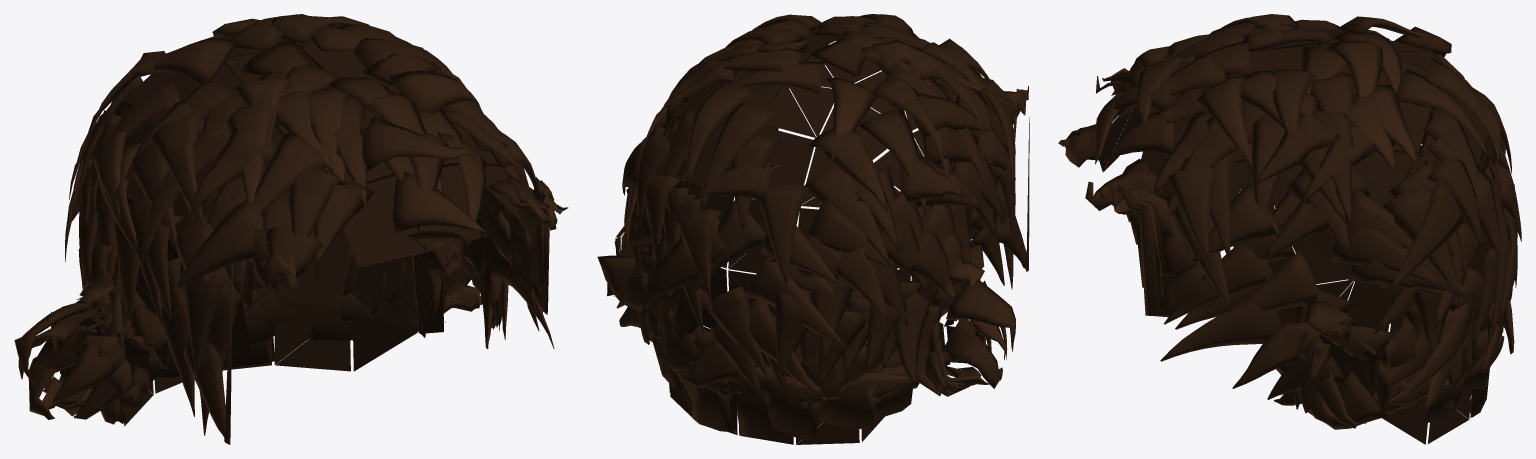
Rendered from kopf.haar.zerzaust.glb.
3 views of the same model, side by side, from view 1: azimuth 30°, elevation 25°; view 2: azimuth 150°, elevation 25°; view 3: azimuth 270°, elevation 25° (orthographic). The views are drawn at different scales.
Visible parts, largest first — view 1: haar; view 2: haar; view 3: haar.
Boxes of the visible parts, <box> form: haar: <box>14,14,568,444</box>; haar: <box>597,14,1029,444</box>; haar: <box>1058,14,1521,444</box>.
Size of the model in its own units: 0.2527 by 0.2034 by 0.2374.
